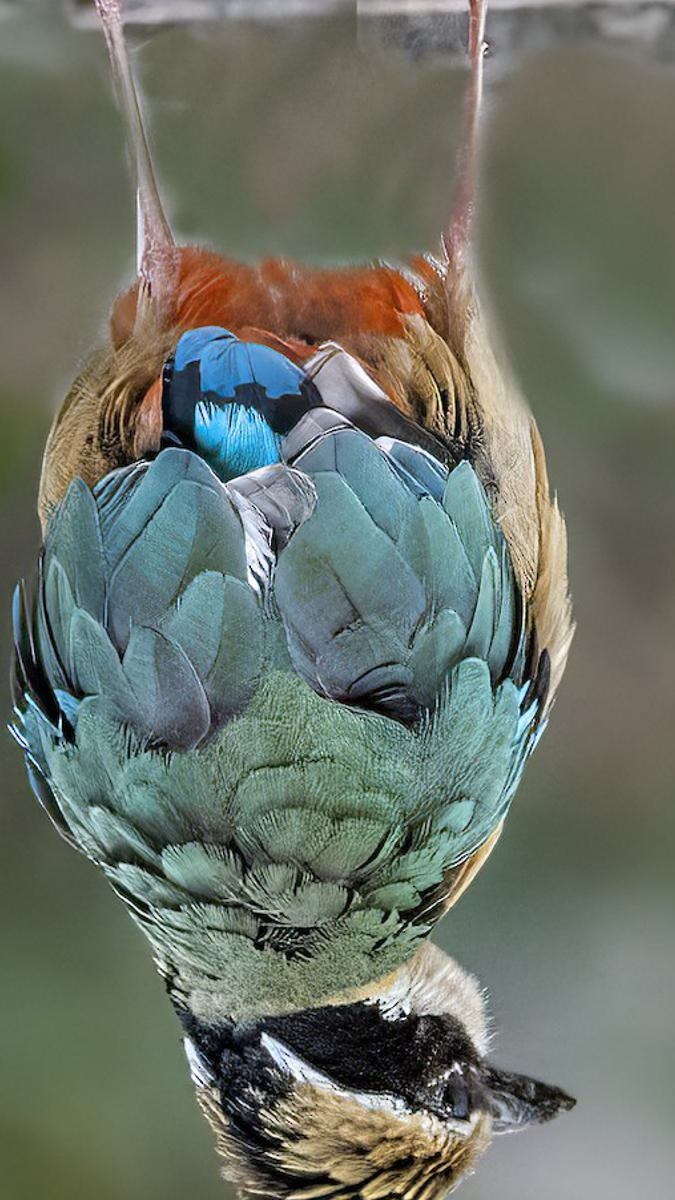pitta: (6, 172, 622, 1200)
